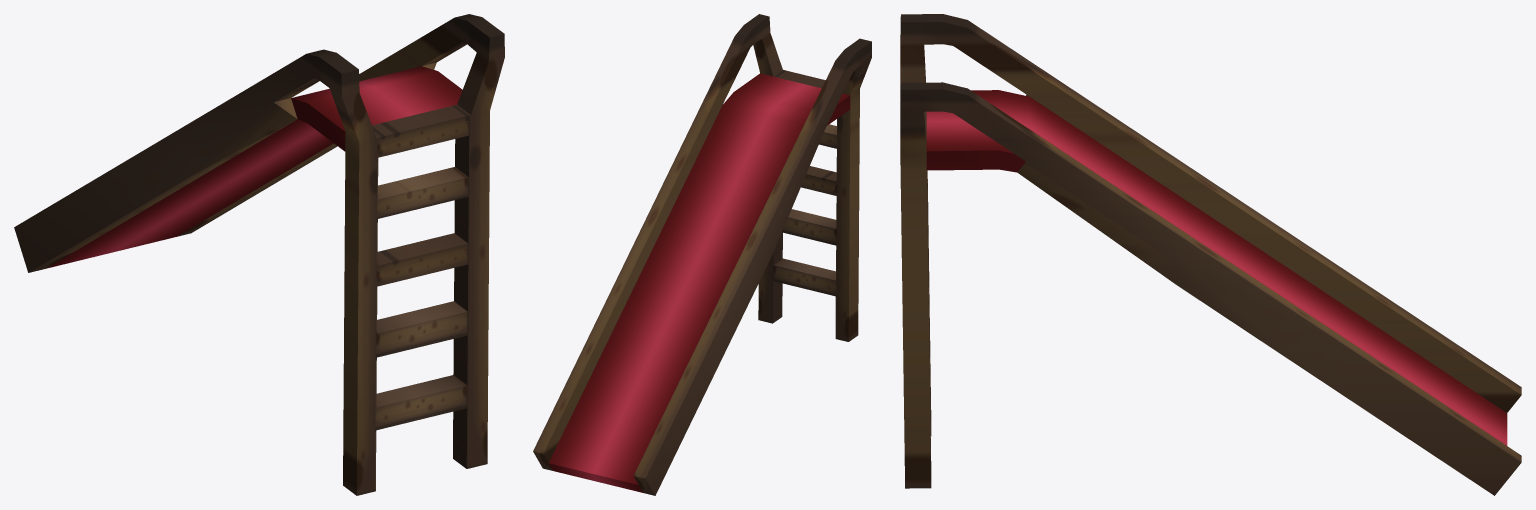
The model's file is slide.fbx.
3 views of the same model, side by side, from view 1: azimuth 30°, elevation 25°; view 2: azimuth 150°, elevation 25°; view 3: azimuth 270°, elevation 25° (orthographic). The views are drawn at different scales.
Parts seen in each view (by area): view 1: pCube6; view 2: pCube6; view 3: pCube6.
Part boxes in pixels (x1=…): pCube6: x1=14, y1=14, x2=504, y2=495; pCube6: x1=533, y1=14, x2=871, y2=495; pCube6: x1=900, y1=14, x2=1521, y2=495.
Size of the model in its own units: 1.02 by 2.57 by 3.56.
1 material, 1 textured.
